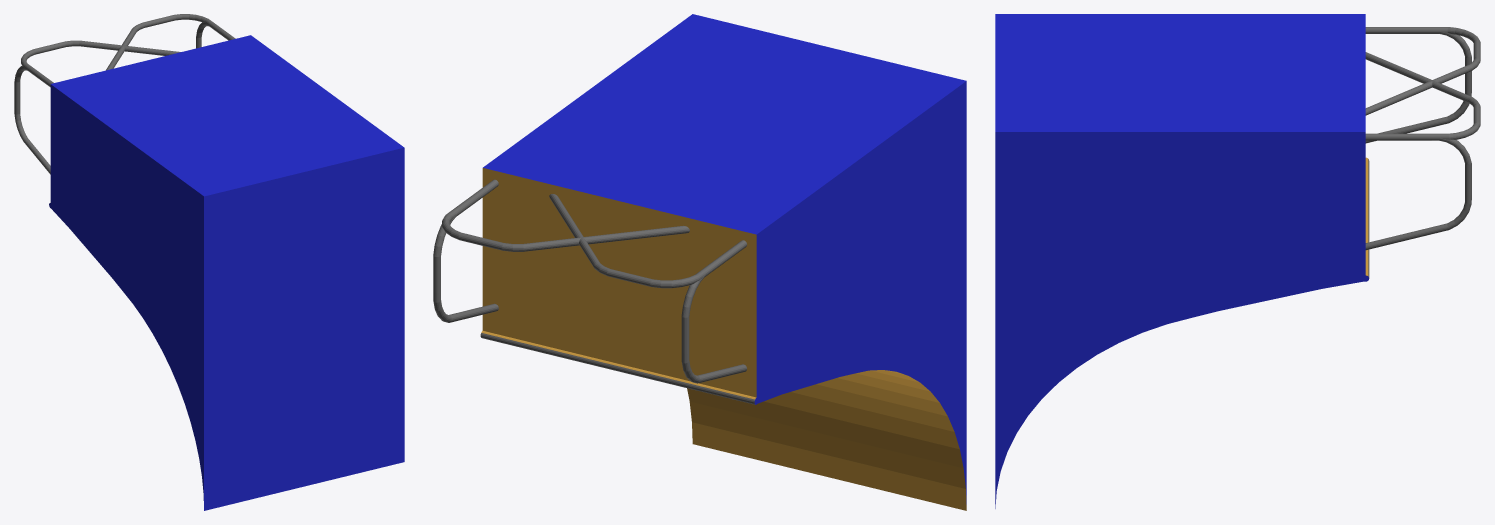
File: Drop In Ramp W Railing.fbx
3 views of the same model, side by side, from view 1: azimuth 30°, elevation 25°; view 2: azimuth 150°, elevation 25°; view 3: azimuth 270°, elevation 25° (orthographic). The views are drawn at different scales.
Parts seen in each view (by area): view 1: Drop In Ramp W Railing; view 2: Drop In Ramp W Railing; view 3: Drop In Ramp W Railing.
Boxes of the visible parts, bbox=[...] form: Drop In Ramp W Railing: bbox=[14, 14, 404, 510]; Drop In Ramp W Railing: bbox=[433, 14, 966, 510]; Drop In Ramp W Railing: bbox=[995, 14, 1480, 508].
Size of the model in its own units: 1600 by 2400 by 2784.
